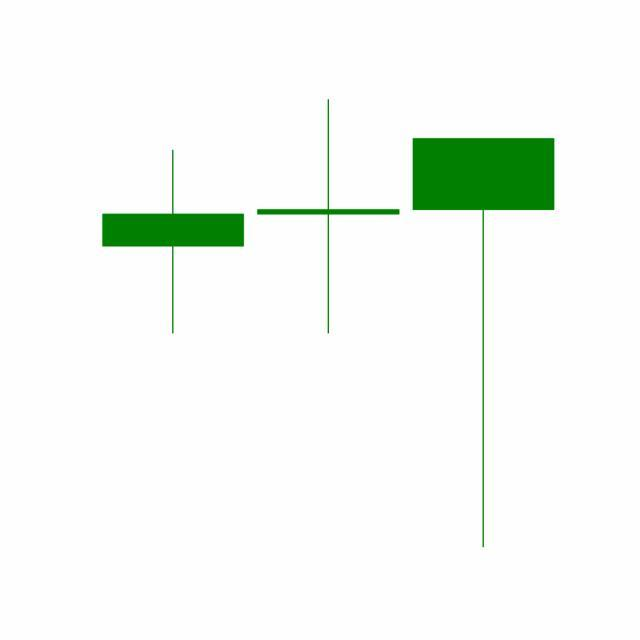Spinning Top: (250, 97, 407, 338)
